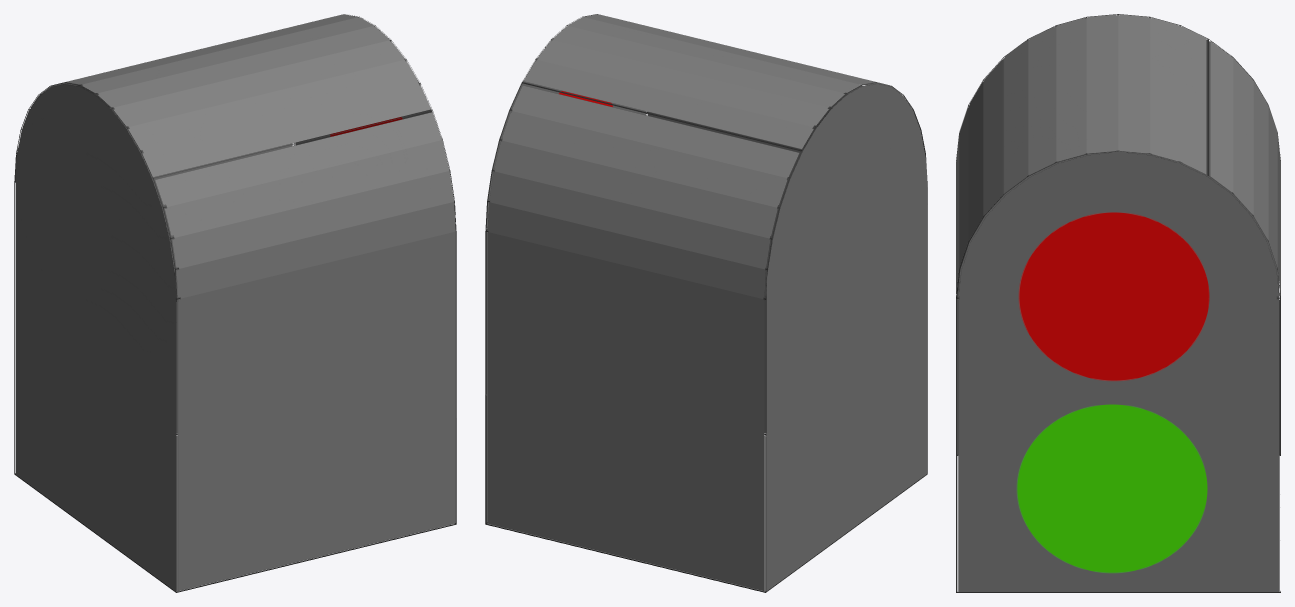
File: light_sensor.dae
3 views of the same model, side by side, from view 1: azimuth 30°, elevation 25°; view 2: azimuth 150°, elevation 25°; view 3: azimuth 270°, elevation 25° (orthographic).
Visible parts, largest first — view 1: Cylinder_005; view 2: Cylinder_005; view 3: Cylinder_005.
Part boxes in pixels (x1=…): Cylinder_005: x1=14, y1=14, x2=456, y2=592; Cylinder_005: x1=485, y1=14, x2=927, y2=592; Cylinder_005: x1=956, y1=14, x2=1280, y2=592.
Size of the model in its own units: 0.01 by 0.01 by 0.015.
1 material, 1 textured.
